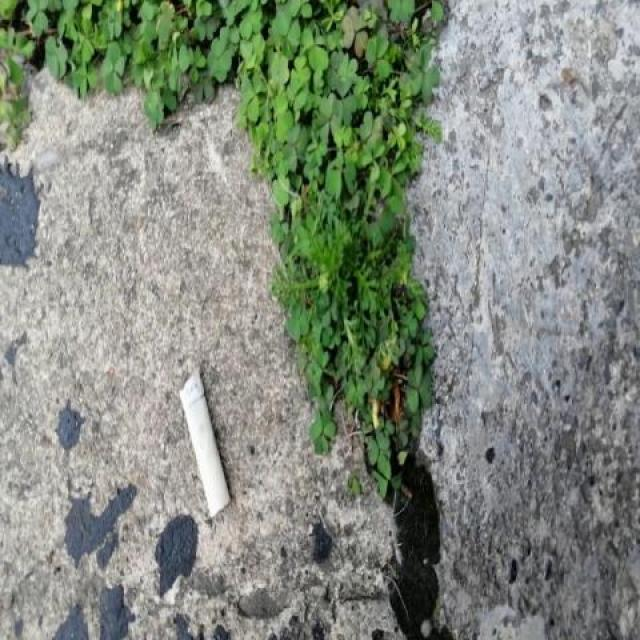non-organic waste: (173, 364, 235, 521)
